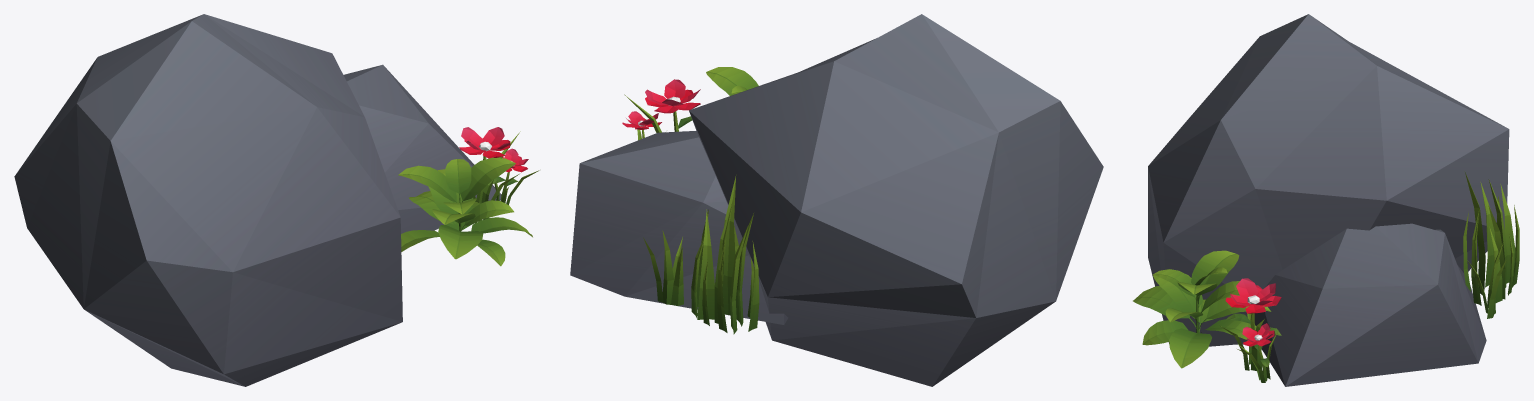
Rendered from SmallRock_01.obj.
3 views of the same model, side by side, from view 1: azimuth 30°, elevation 25°; view 2: azimuth 150°, elevation 25°; view 3: azimuth 270°, elevation 25° (orthographic). The views are drawn at different scales.
Parts seen in each view (by area): view 1: SmallRock_01; view 2: SmallRock_01; view 3: SmallRock_01.
Part boxes in pixels (left/top/right/bottom): SmallRock_01: left=14, top=14, right=539, bottom=386; SmallRock_01: left=570, top=14, right=1103, bottom=386; SmallRock_01: left=1133, top=14, right=1519, bottom=386.
Bounding box in the file's own units: 1.64 × 1.27 × 1.34.
Materials: 1 (1 with a texture image).
